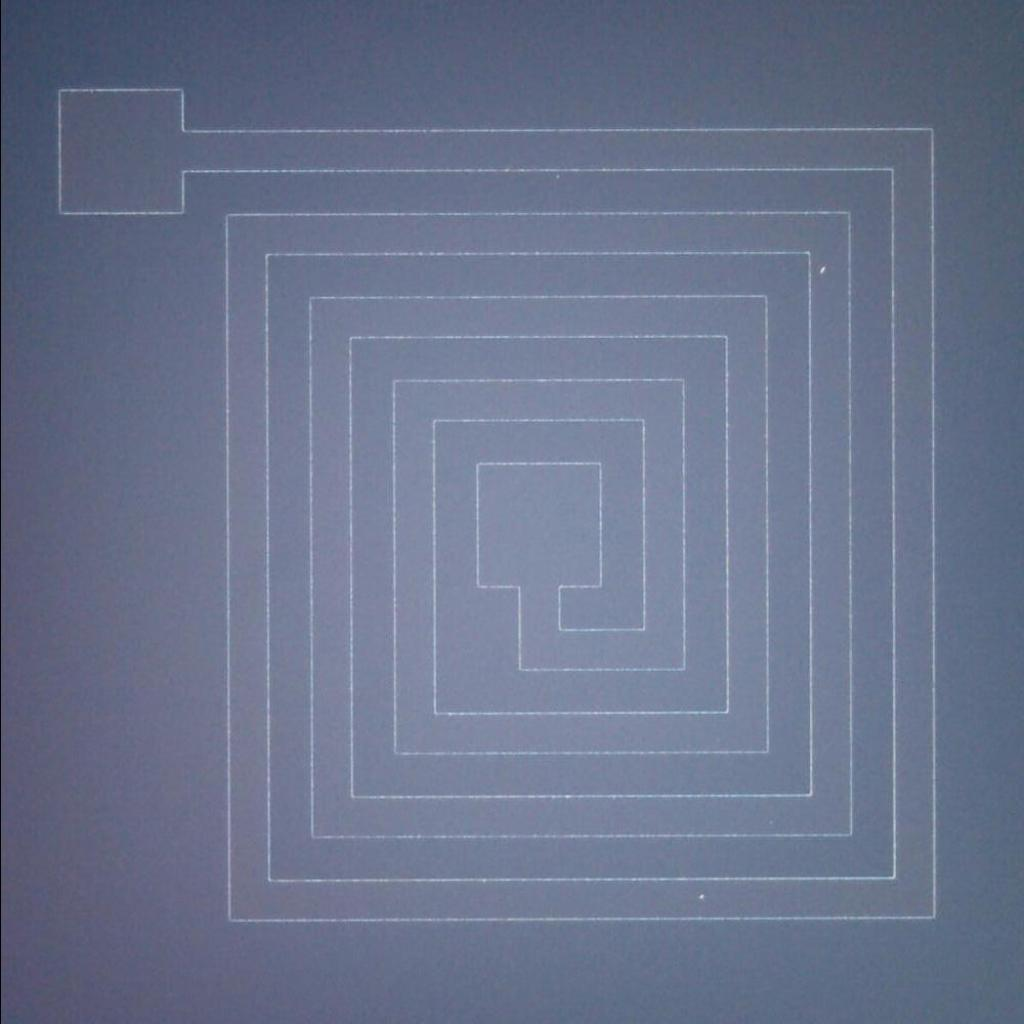dot: (812, 254, 840, 288), (686, 886, 720, 911)
